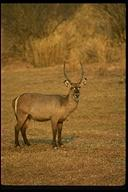antelope: (10, 59, 88, 150)
bush: (16, 34, 75, 72), (78, 36, 122, 66)
